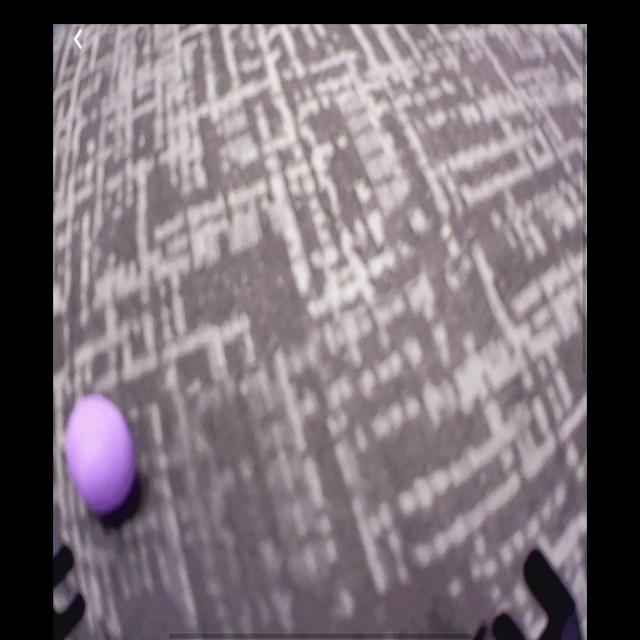ball: (66, 394, 137, 514)
